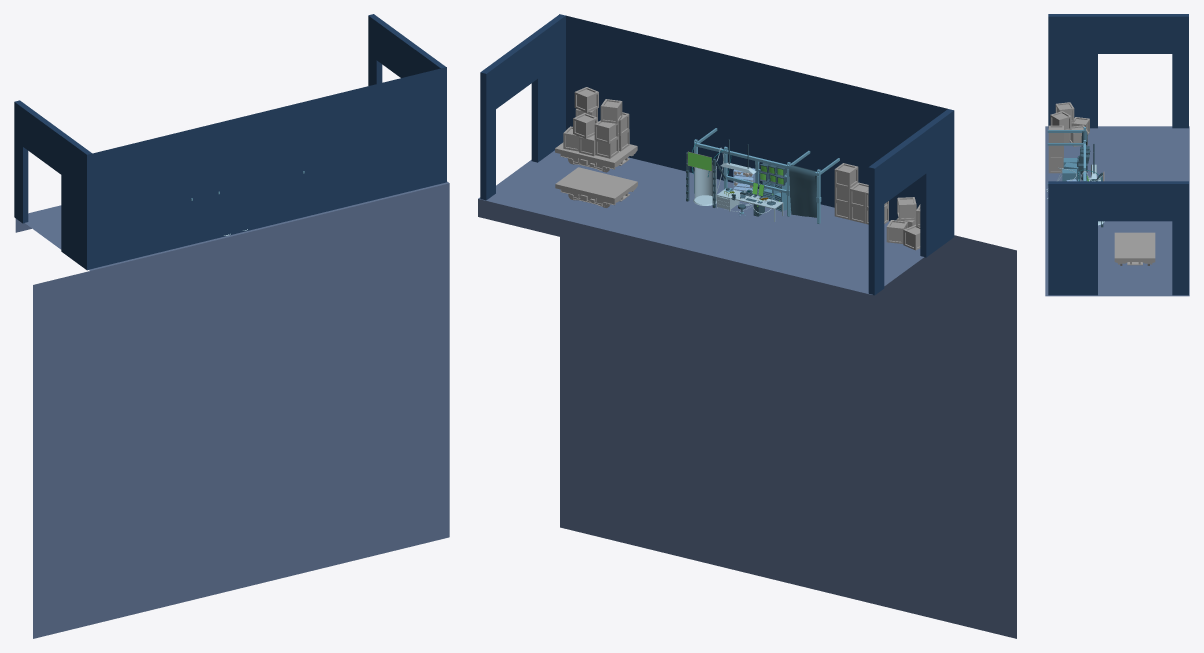
The model's file is test_salle_upgrade.fbx.
3 renders of one model, left to right at view 1: azimuth 30°, elevation 25°; view 2: azimuth 150°, elevation 25°; view 3: azimuth 270°, elevation 25°, orthographic. The views are drawn at different scales.
Visible parts, largest first — view 1: Sol, pPlane10, pPlane5, pPlane4, pPlane9, pPlane8, pPlane6, pPlane7, pPlane11, pPlane1, pPlane2, pPlane12 (+1 smaller); view 2: Sol, Workshop_1_op, pPlane9, pPlane8, pPlane10, pPlane7, pPlane6, pPlane1, pPlane2, pPlane13, pPlane12, pPlane5 (+3 smaller); view 3: Sol, pPlane13, pPlane1, pPlane12, pPlane2, pCube103, Workshop_1_op, pCube88, pCube95, pCube87, pCube89.
Part boxes in pixels (x1,y1,x2,y2): Sol: [15, 181, 449, 638]; pPlane10: [358, 78, 402, 203]; pPlane5: [136, 132, 180, 257]; pPlane4: [92, 143, 136, 268]; pPlane9: [314, 89, 358, 214]; pPlane8: [269, 99, 313, 225]; pPlane6: [225, 110, 269, 236]; pPlane7: [181, 121, 225, 246]; pPlane11: [402, 67, 446, 192]; pPlane1: [61, 135, 92, 270]; pPlane2: [14, 100, 66, 223]; pPlane12: [368, 14, 420, 85]; Sol: [478, 150, 1016, 638]; Workshop_1_op: [686, 139, 821, 223]; pPlane9: [656, 38, 705, 173]; pPlane8: [705, 49, 753, 182]; pPlane10: [608, 26, 656, 164]; pPlane7: [802, 73, 850, 207]; pPlane6: [753, 61, 802, 188]; pPlane1: [920, 109, 954, 257]; pPlane2: [868, 129, 926, 295]; pPlane13: [531, 14, 565, 162]; pPlane12: [480, 34, 537, 200]; pPlane5: [851, 85, 899, 220]; Sol: [1045, 126, 1189, 296]; pPlane13: [1048, 181, 1097, 295]; pPlane1: [1048, 14, 1097, 128]; pPlane12: [1098, 181, 1188, 295]; pPlane2: [1098, 14, 1188, 128]; pCube103: [1114, 232, 1155, 263]; Workshop_1_op: [1046, 127, 1104, 227]; pCube88: [1050, 111, 1071, 129]; pCube95: [1048, 125, 1063, 145]; pCube87: [1055, 102, 1074, 122]; pCube89: [1048, 159, 1063, 173].
Size of the model in its own units: 2821 by 3038 by 875.
